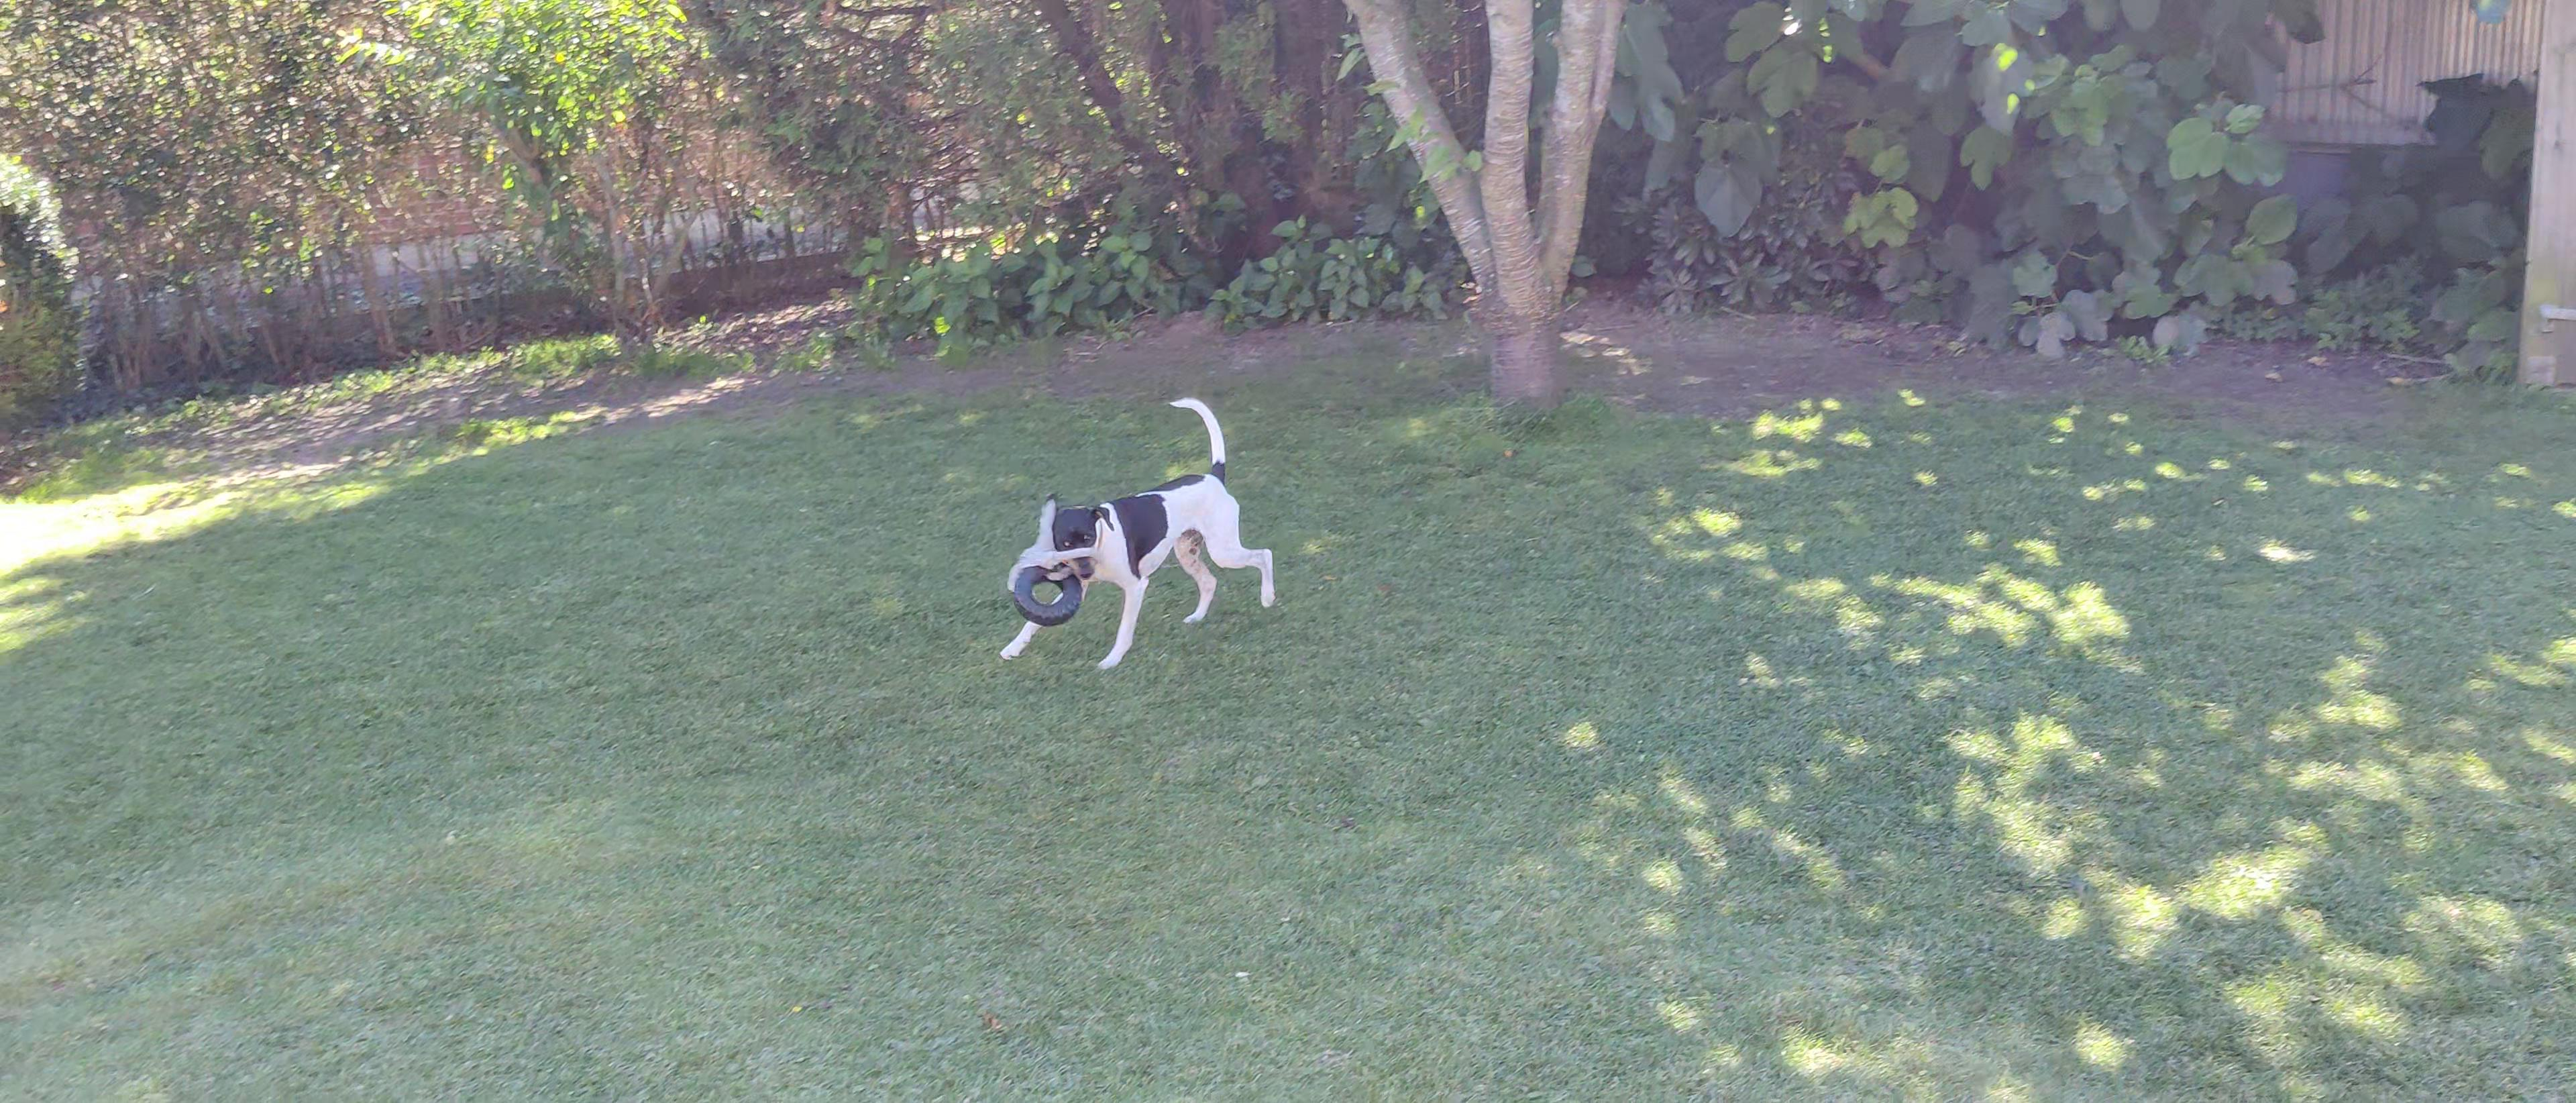Dog: (991, 395, 1288, 676)
